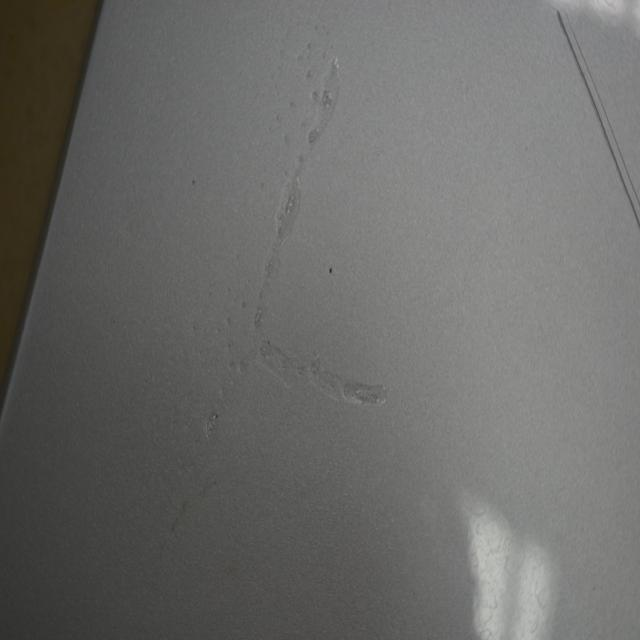dirt: (327, 262, 335, 278), (189, 176, 196, 188)
runs: (200, 15, 390, 444)
scratch: (554, 3, 638, 224)
